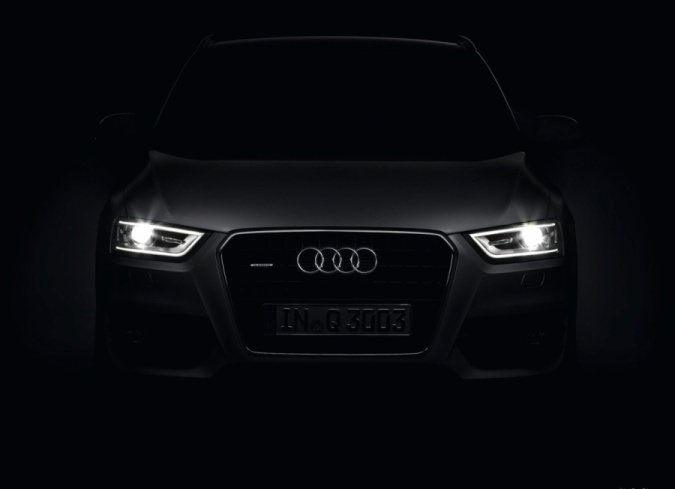audi: (284, 241, 393, 282)
